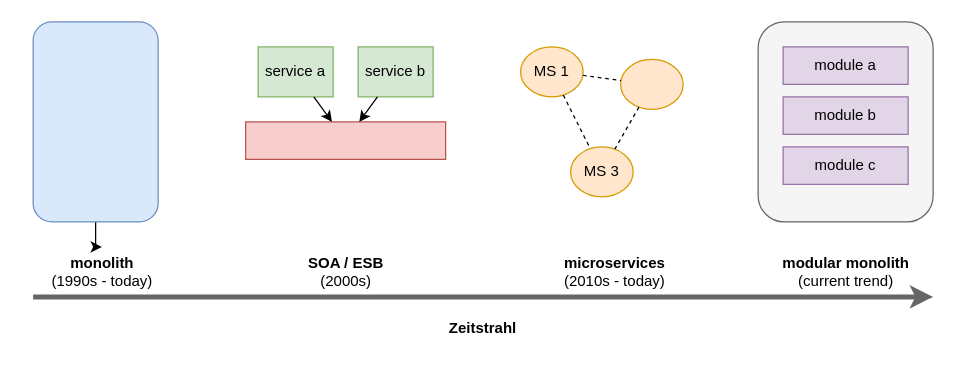
Some shapes in this 966 by 369 pixel diagram are drawn without their labels. The box of each missing label's shape, as (x1, y1, x2, y2) in pixels:
application boundary: (757, 21, 933, 222)
enterprise service bus: (244, 121, 446, 159)
MS 2: (619, 58, 683, 109)
user interface business logic and persistence in a single monolithic block: (32, 21, 158, 222)
